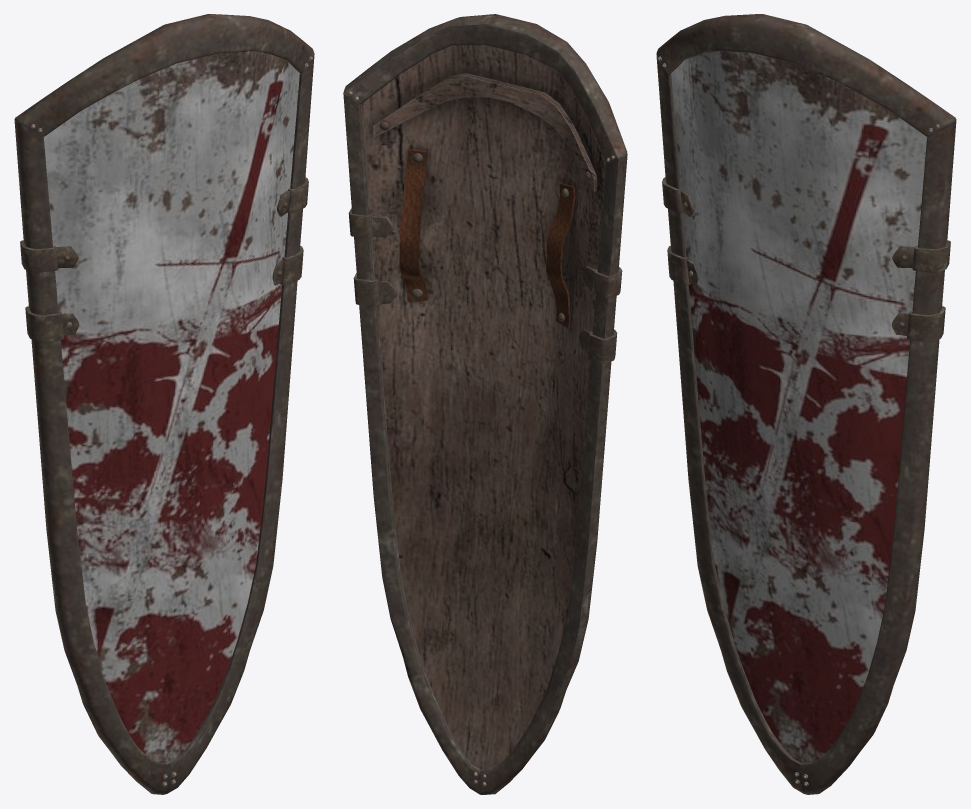
File: kite_shield.glb
The picture shows the model from 3 angles, left to right: view 1: azimuth 30°, elevation 25°; view 2: azimuth 150°, elevation 25°; view 3: azimuth 330°, elevation 25°; orthographic projection. The views are drawn at different scales.
Parts seen in each view (by area): view 1: kite_shield_body, kite_shield_metal_trim, kite_shield_clamps_and_bolts; view 2: kite_shield_body, kite_shield_metal_trim, kite_shield_clamps_and_bolts; view 3: kite_shield_body, kite_shield_metal_trim, kite_shield_clamps_and_bolts.
Boxes of the visible parts, x1,y1,x2,y2 form: kite_shield_body: (43,51,299,764); kite_shield_metal_trim: (14,14,314,794); kite_shield_clamps_and_bolts: (20,56,312,786); kite_shield_body: (361,45,606,770); kite_shield_metal_trim: (343,14,627,794); kite_shield_clamps_and_bolts: (348,91,622,786); kite_shield_body: (671,51,927,763); kite_shield_metal_trim: (656,14,956,794); kite_shield_clamps_and_bolts: (658,56,950,786).
Size of the model in its own units: 0.5433 by 1.39 by 0.1347.
Materials: 2 (2 with a texture image).
